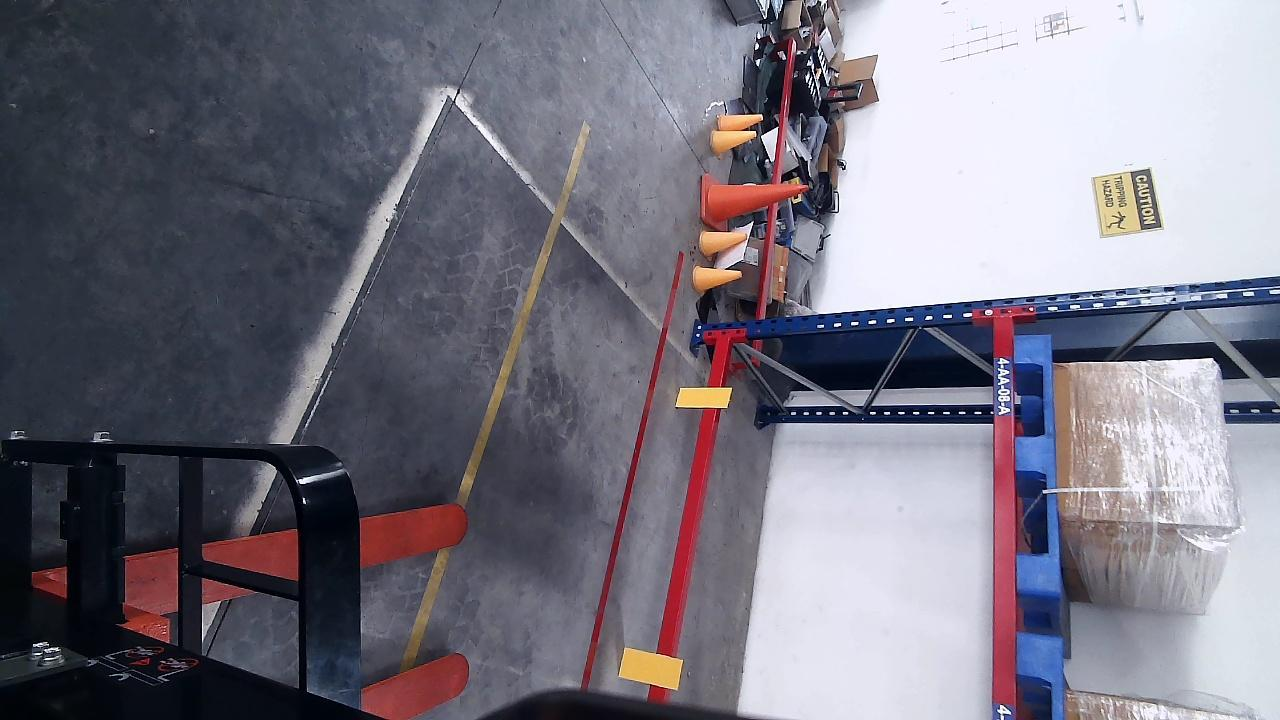h_rack: (645, 338, 732, 701), (990, 318, 1017, 718)
orange_strip: (617, 645, 684, 686), (675, 388, 736, 409)
red_line: (579, 251, 688, 687)
small_pallet: (1014, 336, 1056, 591), (1017, 639, 1064, 720)
yellow_line: (455, 118, 593, 506)
